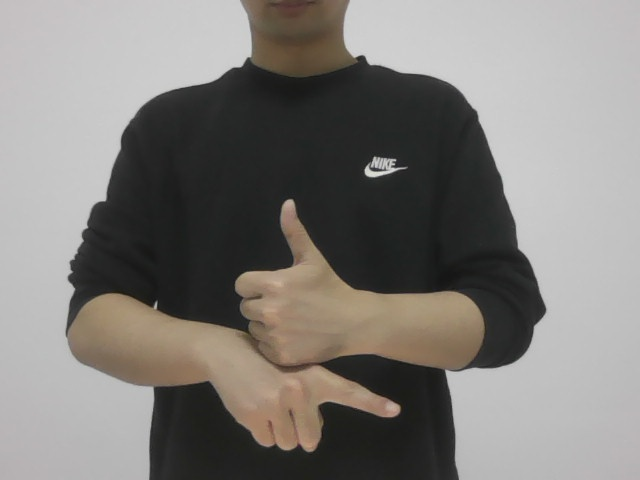birthday: (198, 190, 429, 466)
